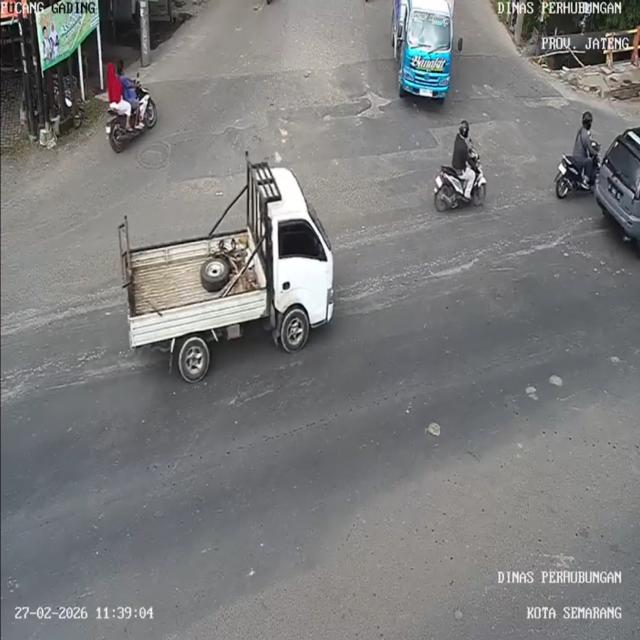motorcycle: (105, 89, 157, 151), (435, 159, 489, 211), (552, 154, 598, 198)
person: (104, 63, 133, 132), (117, 59, 143, 129), (451, 118, 476, 181), (573, 108, 594, 168)
rider_region: (431, 114, 491, 208), (102, 63, 160, 151), (552, 108, 604, 205)
